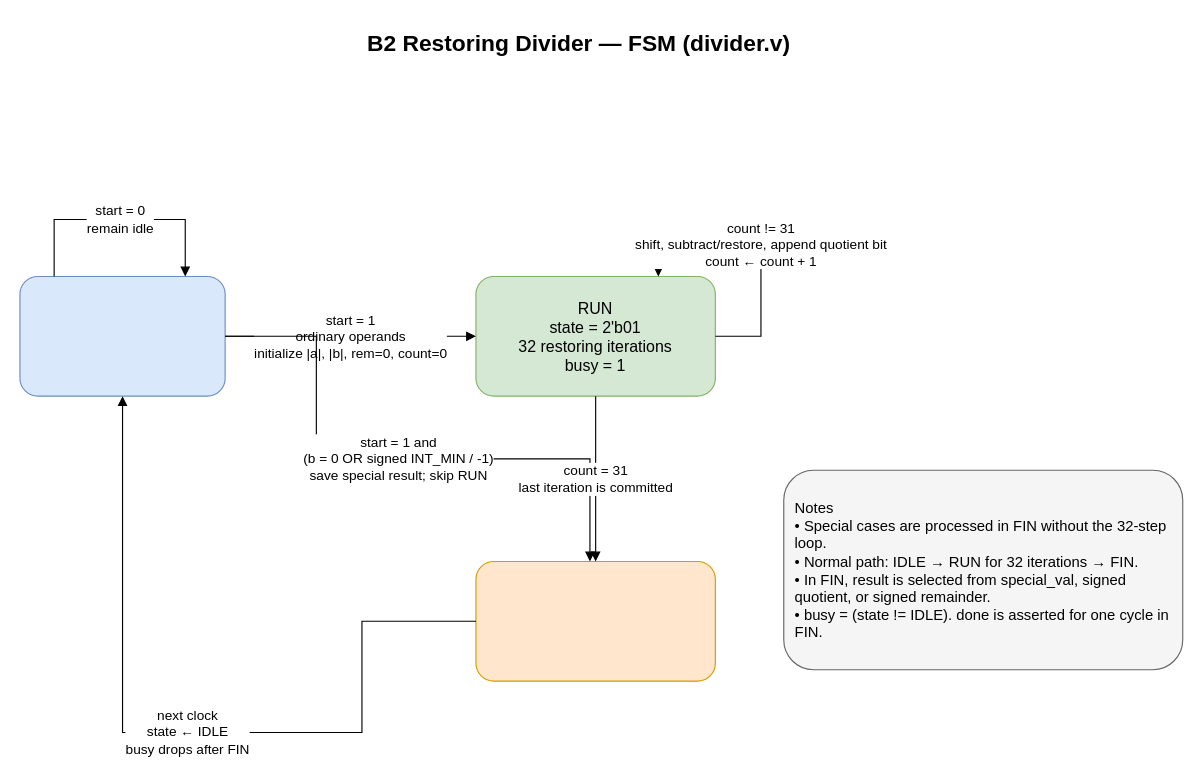
The diagram is 1203 pixels wide and 776 high, and some of its shapes have lost their labels. The box of each missing label's shape, as (x1, y1, x2, y2) in pixels:
FIN state = 2'b10 Register result Pulse done = 1: (475, 560, 715, 681)
IDLE state = 2'b00 busy = 0 Wait for start: (19, 275, 225, 396)
